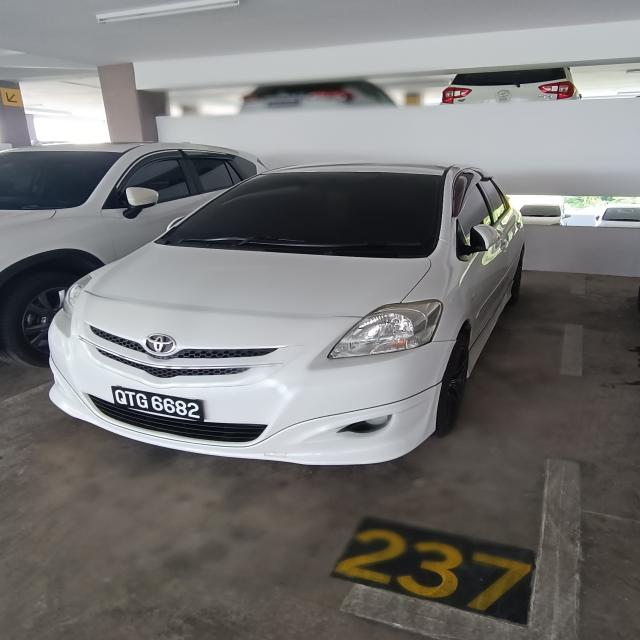ToyotaVios: (45, 161, 527, 466)
